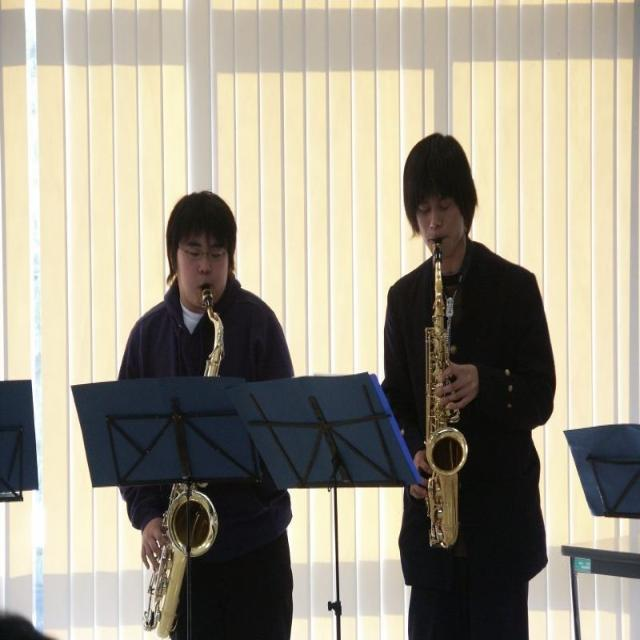saxophone: (144, 285, 227, 636), (415, 233, 468, 551)
